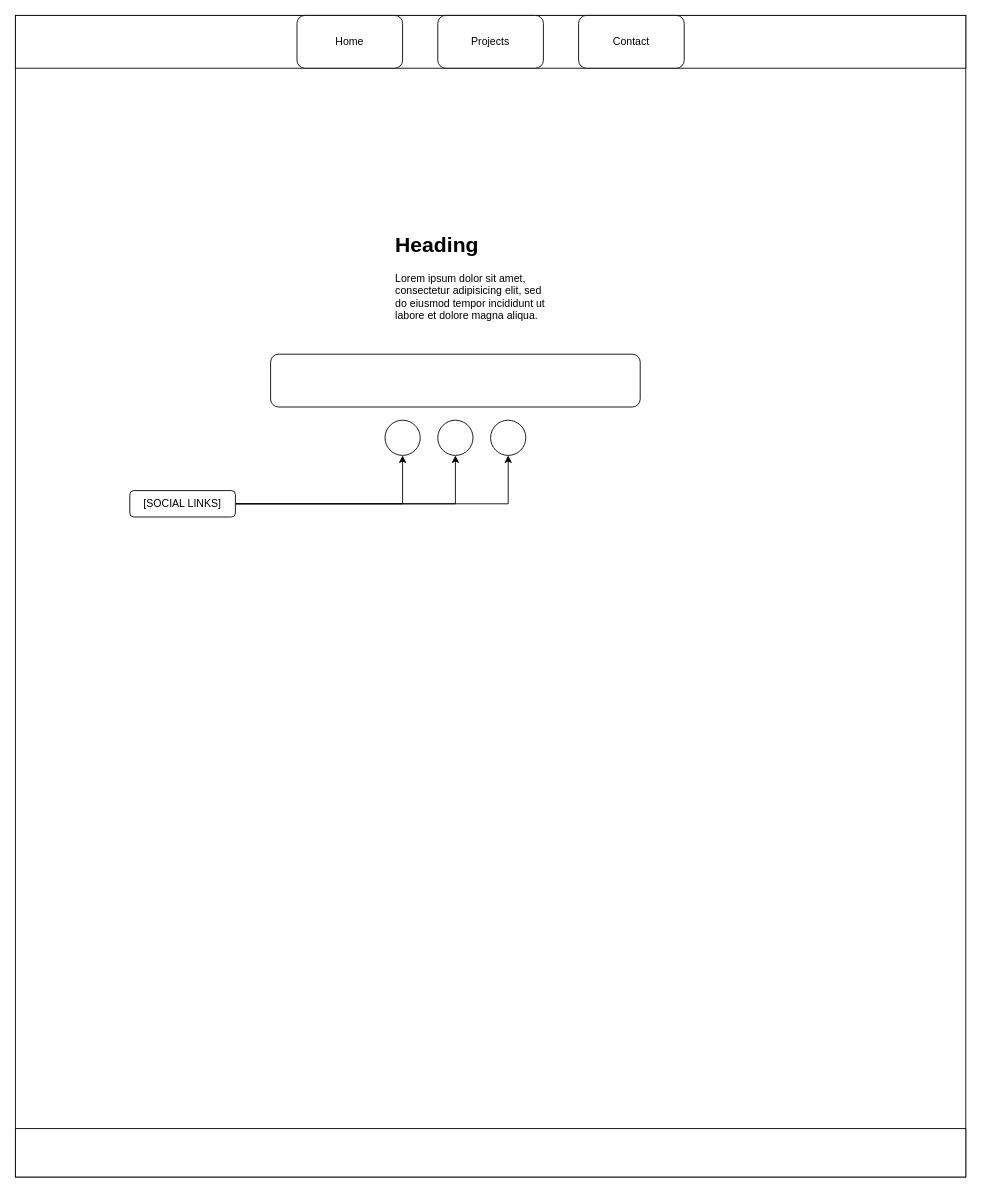
The diagram is 981 pixels wide and 1192 high, and some of its shapes have lost their labels. The centre of each missing label's shape, as x and y in pixels:
Email Contact Button: point 455,380
Footer: point 490,1152
